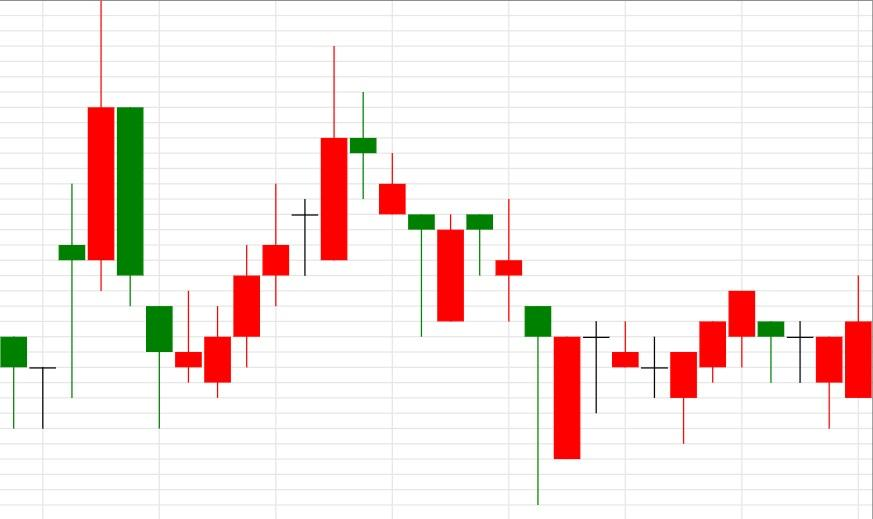hammer_rise: (319, 45, 436, 336)
three_white_soldiers_rise: (87, 0, 290, 429)
